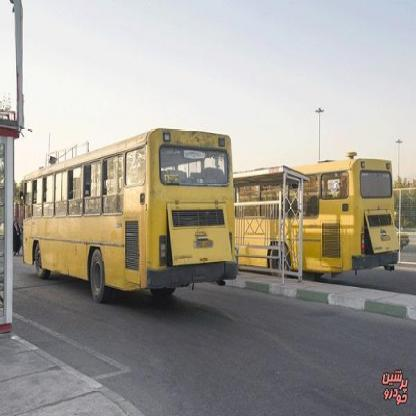Bus: (19, 118, 240, 320), (231, 157, 404, 285)
